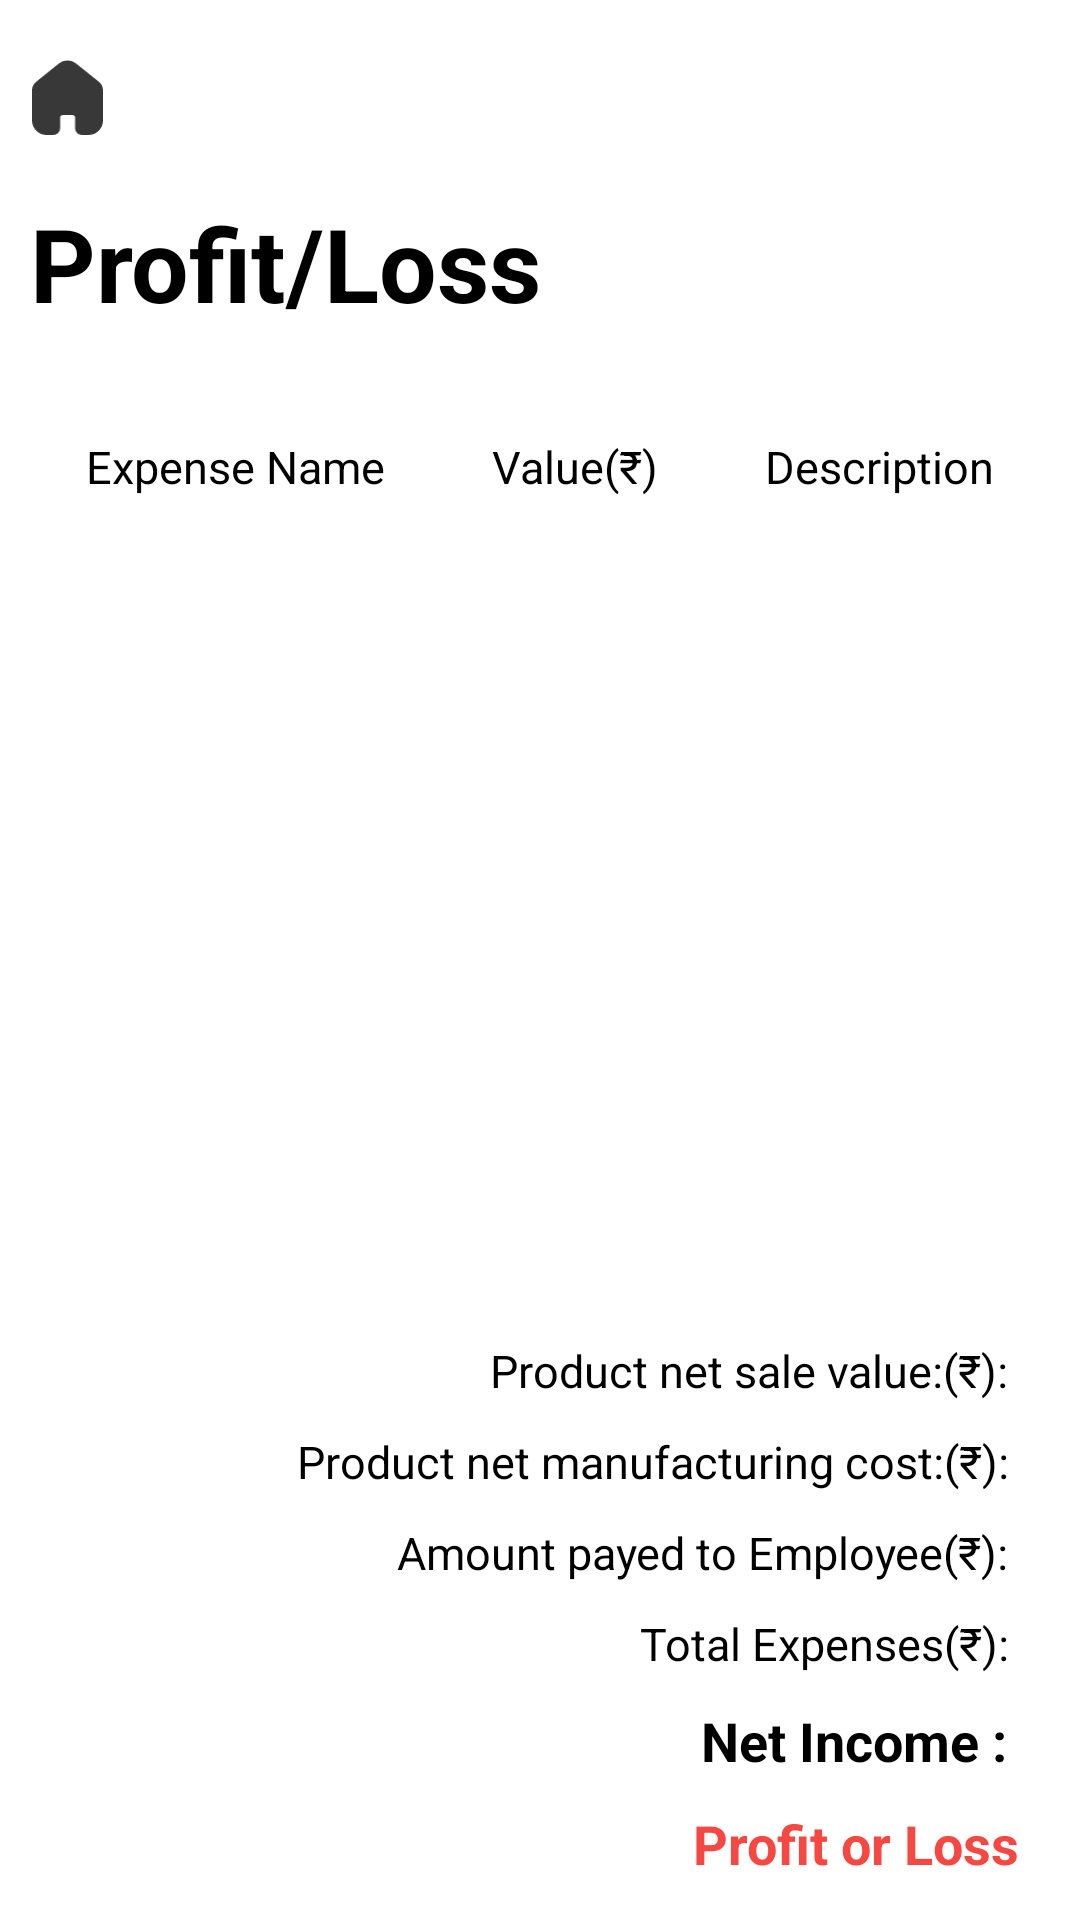

Where icons sit on this 1080px×1920px app screen, as detection(x1, y1, x2, y2):
home: detection(32, 60, 103, 135)
